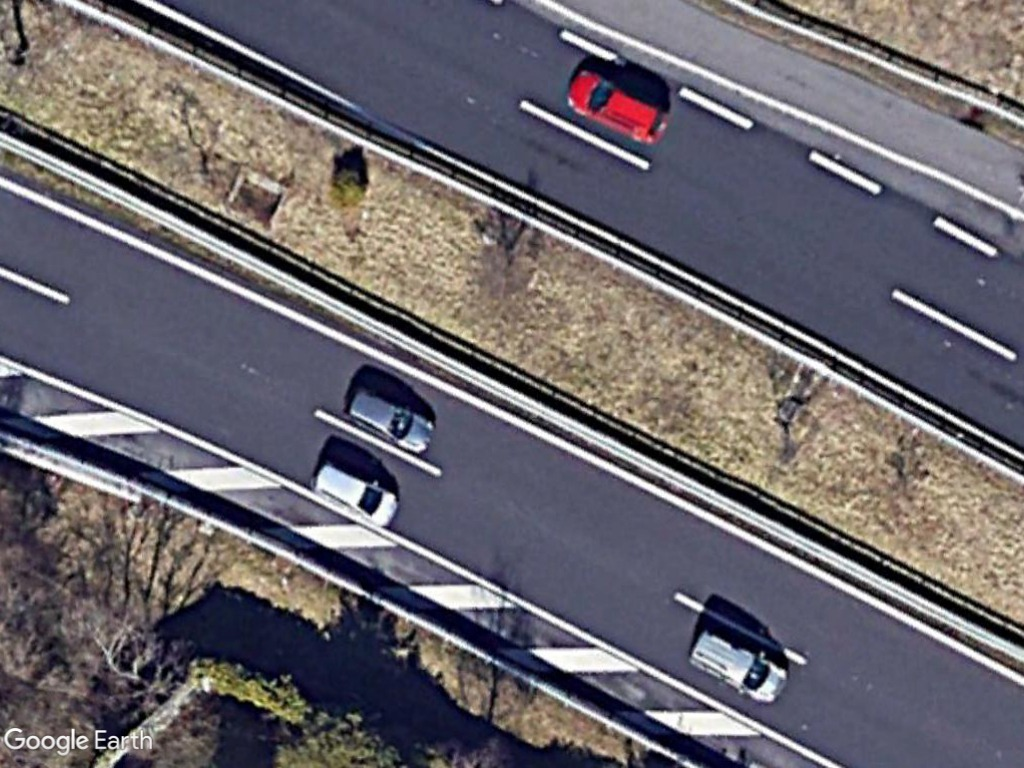car: (564, 66, 675, 148), (336, 381, 438, 459), (305, 458, 404, 532)
van: (685, 627, 791, 709)
